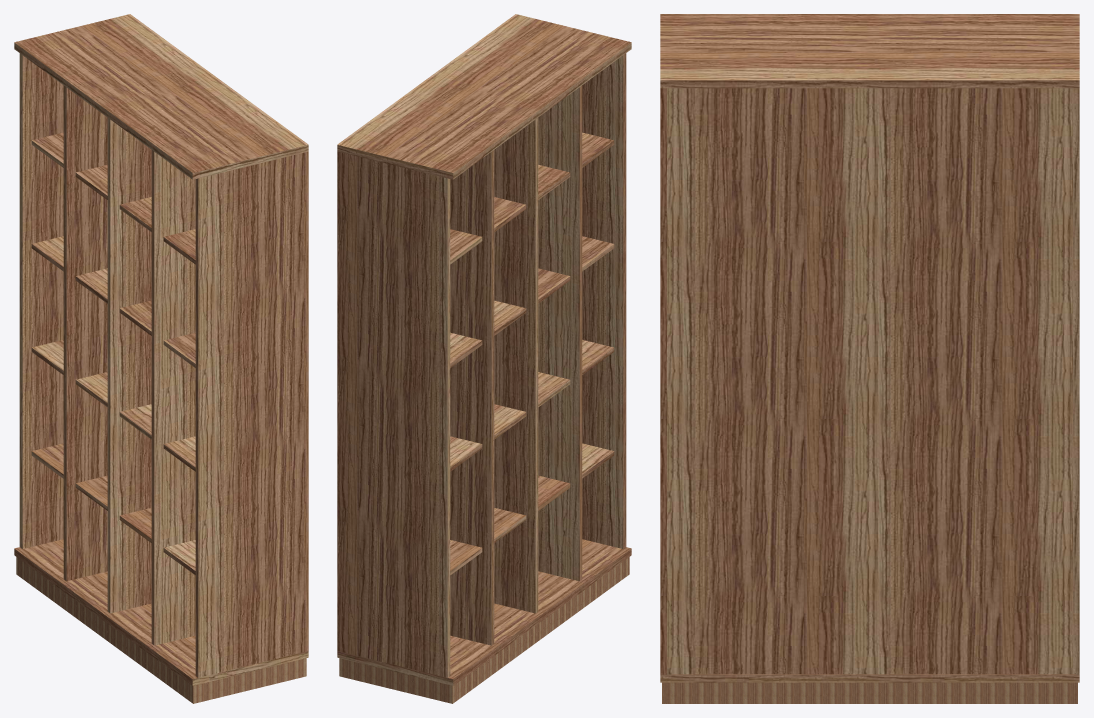
The model's file is baseline_5OH_45x120_compartmentsbig_finala.fbx.
The picture shows the model from 3 angles, left to right: view 1: azimuth 30°, elevation 25°; view 2: azimuth 150°, elevation 25°; view 3: azimuth 270°, elevation 25°; orthographic projection. The views are drawn at different scales.
Visible parts, largest first — view 1: drewno_mesh, metal_mesh; view 2: drewno_mesh, metal_mesh; view 3: drewno_mesh, metal_mesh.
Part boxes in pixels (box(x1,y1,x2,y2)): drewno_mesh: box(14, 14, 308, 685); metal_mesh: box(16, 557, 306, 703); drewno_mesh: box(337, 14, 631, 685); metal_mesh: box(339, 557, 629, 703); drewno_mesh: box(660, 14, 1079, 682); metal_mesh: box(662, 682, 1077, 703).
Size of the model in its own units: 114 by 501 by 305.
